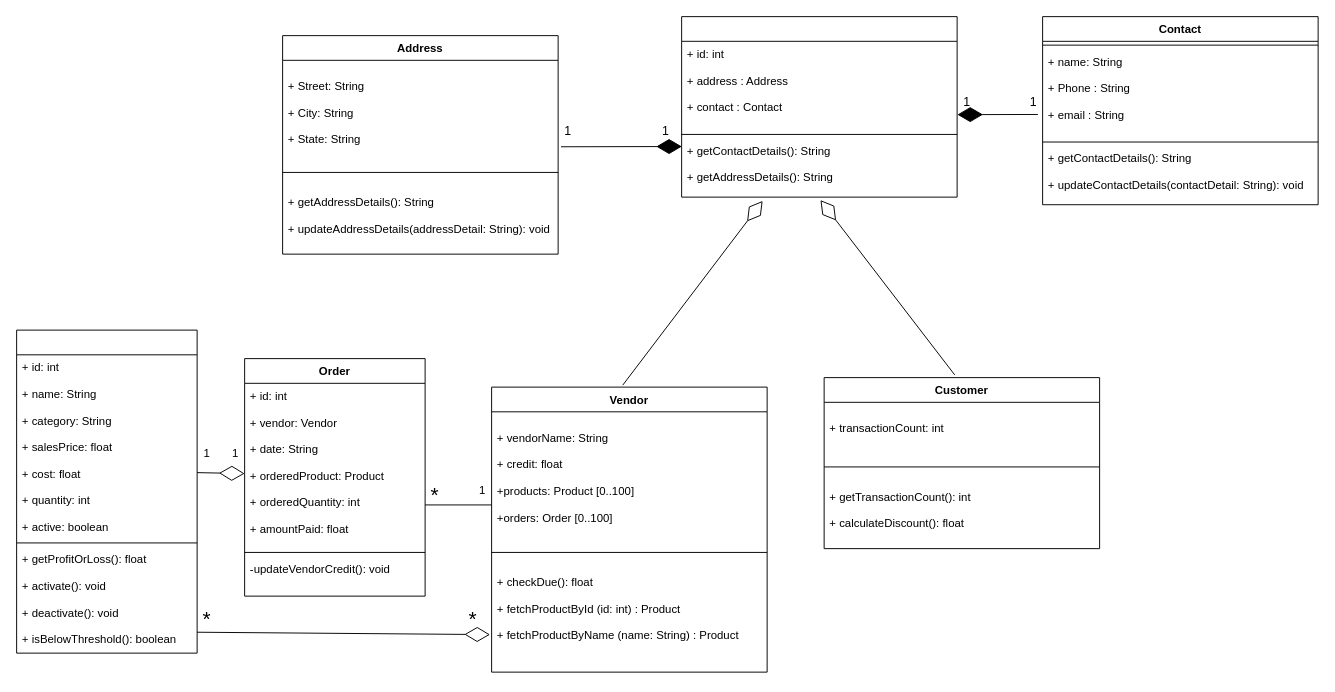
The diagram is 1335 pixels wide and 692 high, and some of its shapes have lost their labels. The box of each missing label's shape, as (x1, y1, x2, y2) in pixels:
Business Partner: (681, 16, 957, 197)
Product: (16, 329, 197, 653)
